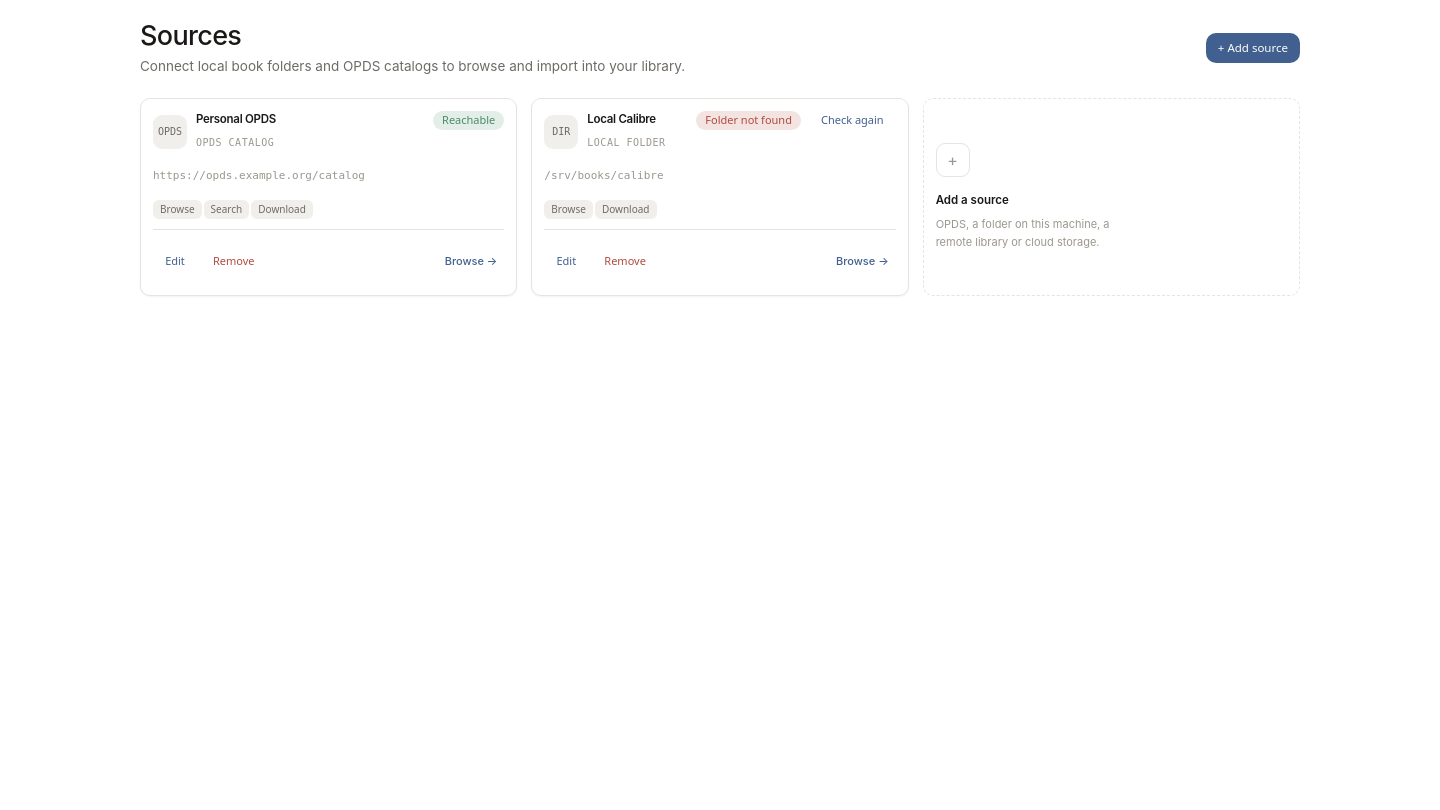
Sources Screen › keeps the dialog open and shows an error when delete fails
The width and height of the screenshot is (1440, 810).
Expected: the heading "Personal OPDS" is shown, left=196, top=111, right=276, bottom=128
Step 1. Click the button "Remove" below "Search" → (234, 262), box left=204, top=240, right=264, bottom=284
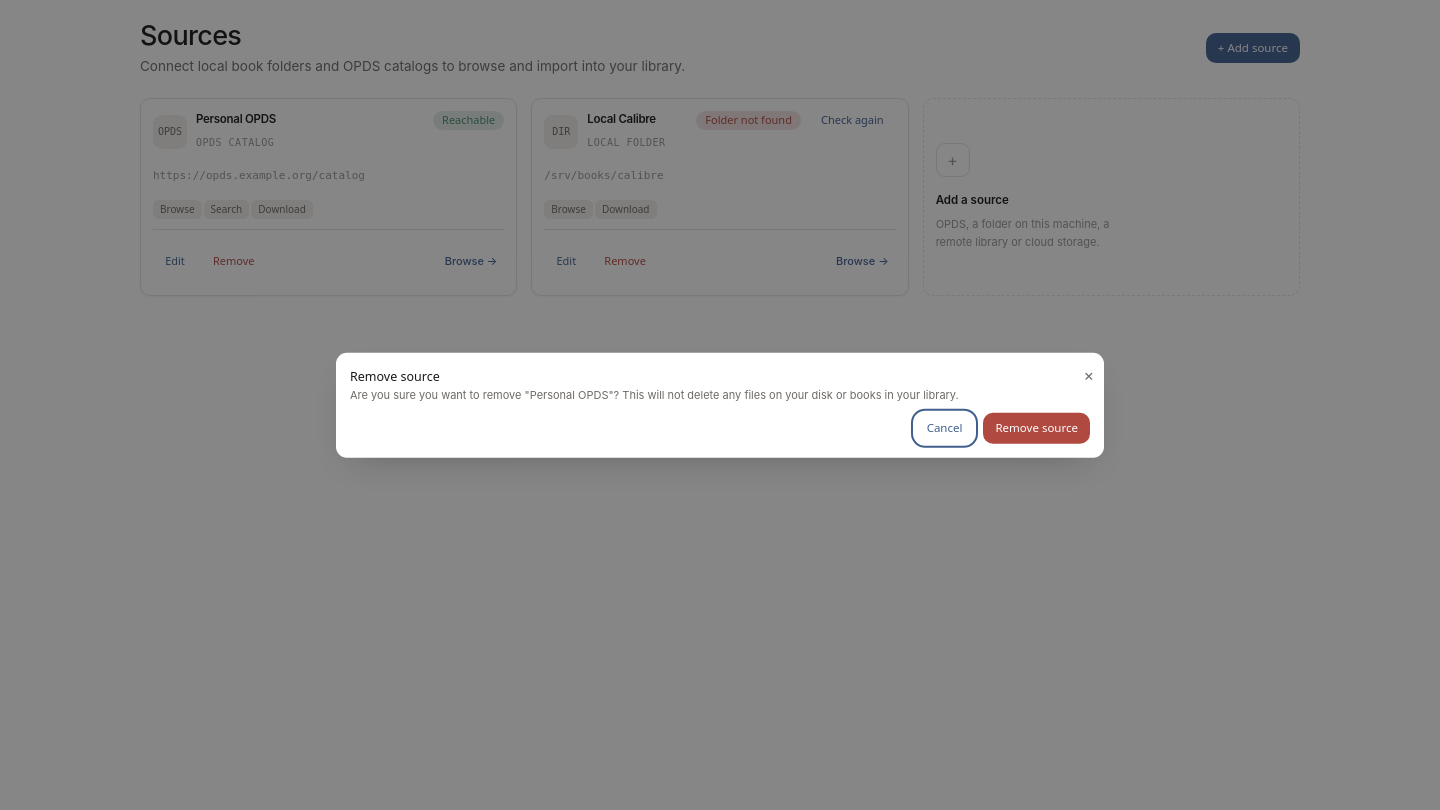
Step 2. Click the button "Remove source" → (1037, 428), box left=984, top=413, right=1090, bottom=443
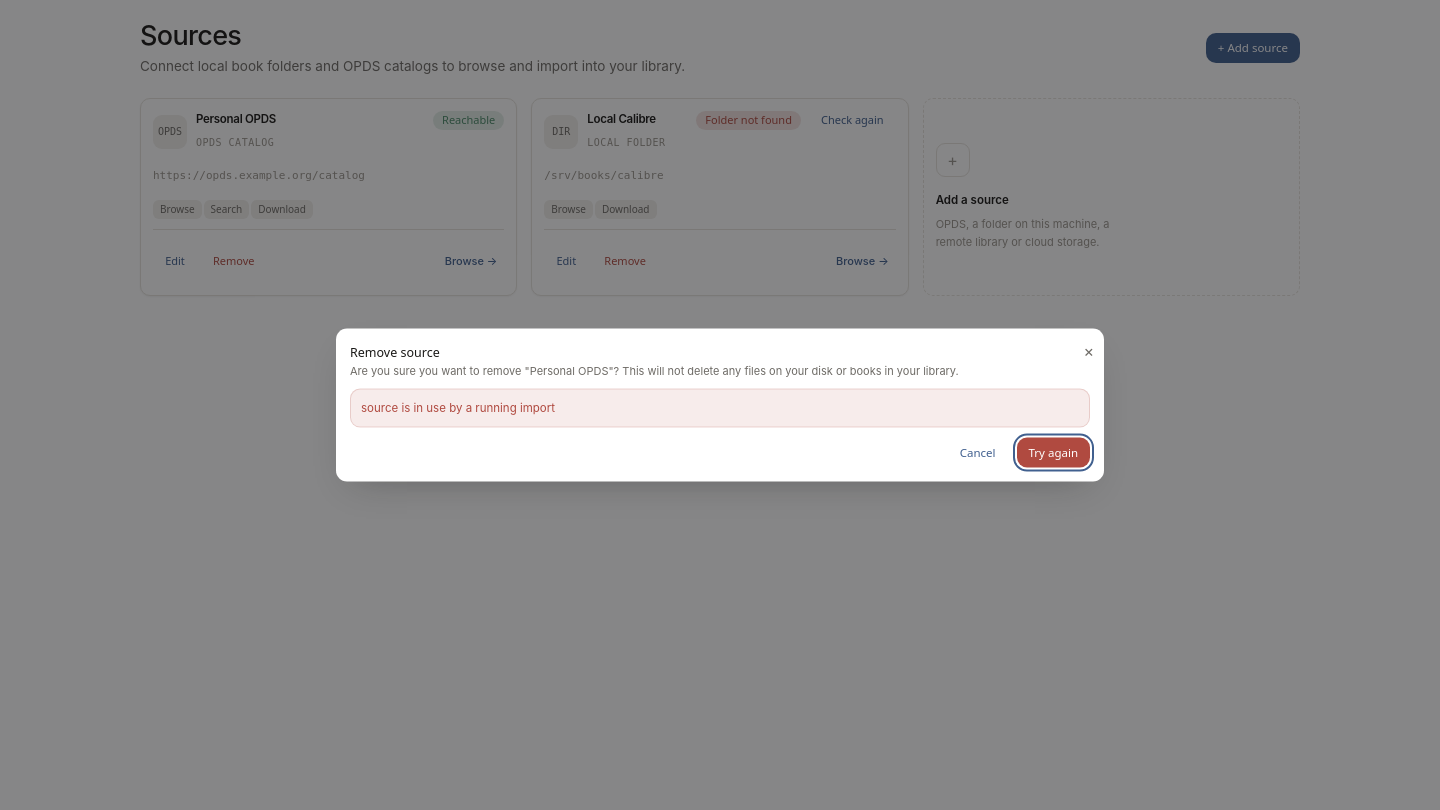
Result: the dialog is shown at left=336, top=328, right=1104, bottom=481
Result: the message shows "running import" at left=361, top=401, right=555, bottom=415
Result: the button "Try again" is shown at left=1016, top=437, right=1090, bottom=467
